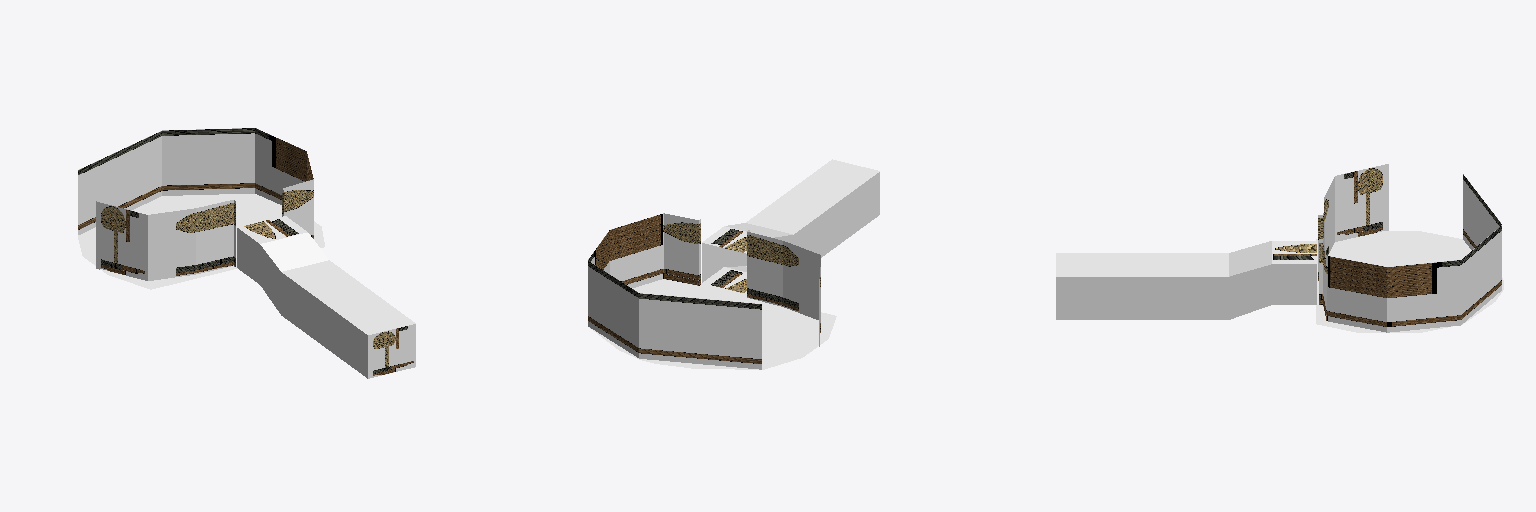
3 renders of one model, left to right at view 1: azimuth 30°, elevation 25°; view 2: azimuth 150°, elevation 25°; view 3: azimuth 270°, elevation 25°, orthographic.
Parts seen in each view (by area): view 1: mesh01; view 2: mesh01; view 3: mesh01.
Part boxes in pixels (x1,y1,x2,y2): mesh01: (78,128,415,378); mesh01: (588,159,879,369); mesh01: (1056,164,1503,332).
Bounding box in the file's own units: 1173 × 431 × 2157.
1 materials, 1 textured.